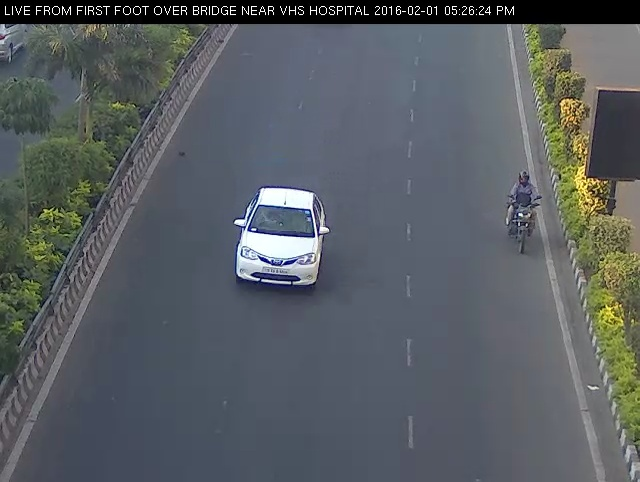Car: (229, 172, 331, 306)
Person: (501, 159, 546, 261)
